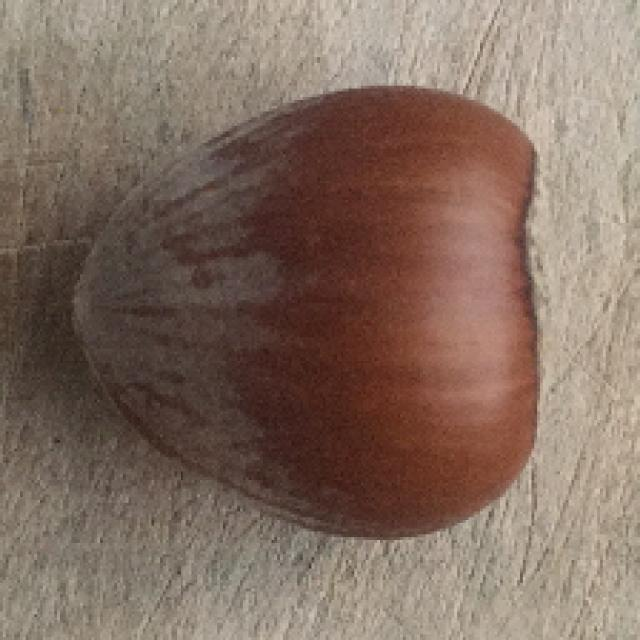qualityHazelnut: (66, 84, 565, 541)
